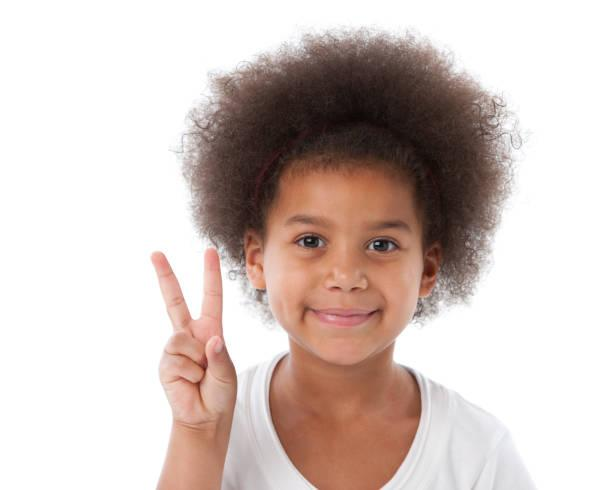peace_sign: (142, 247, 248, 435)
